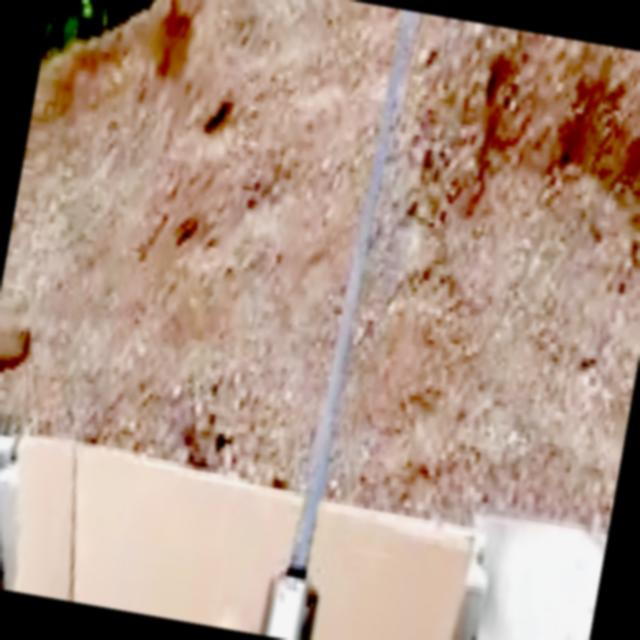eto: (264, 12, 412, 639)
